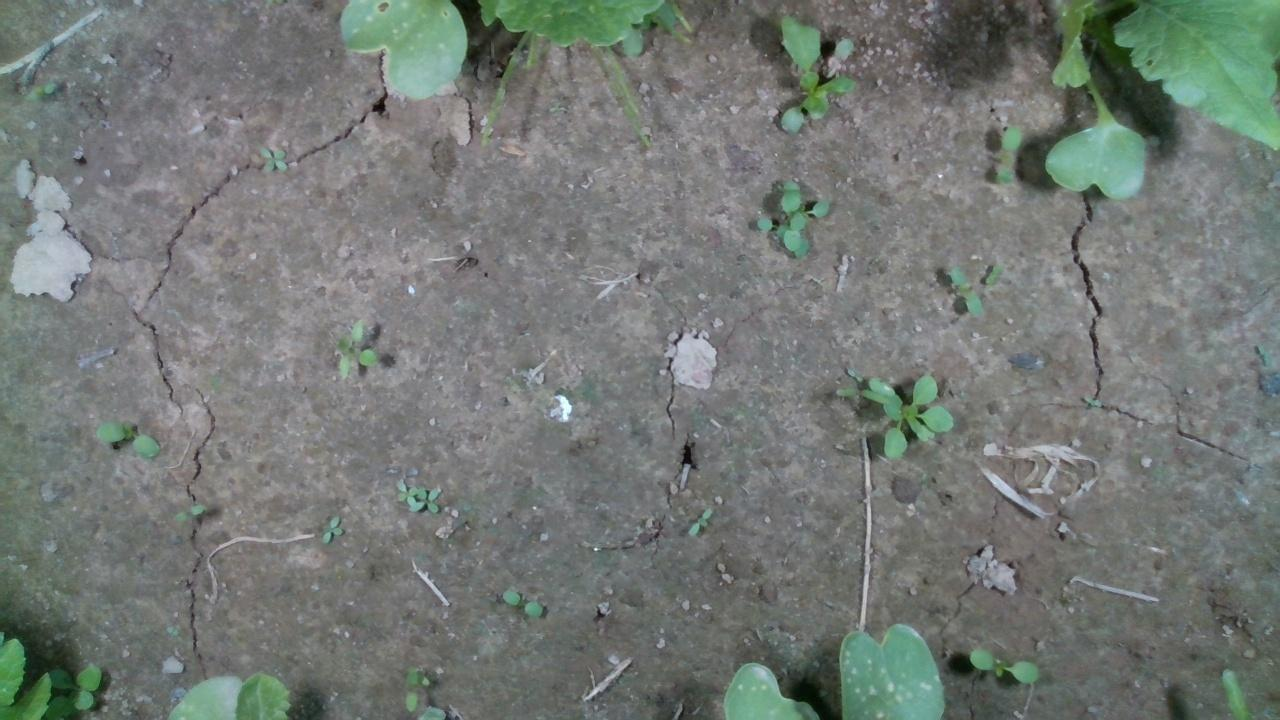weed: (327, 314, 379, 381), (91, 416, 159, 456), (967, 647, 1039, 684), (990, 122, 1023, 188), (948, 264, 982, 315), (500, 588, 544, 616), (169, 500, 207, 524), (255, 144, 288, 171), (318, 514, 344, 544), (687, 505, 711, 536), (403, 663, 418, 712)
